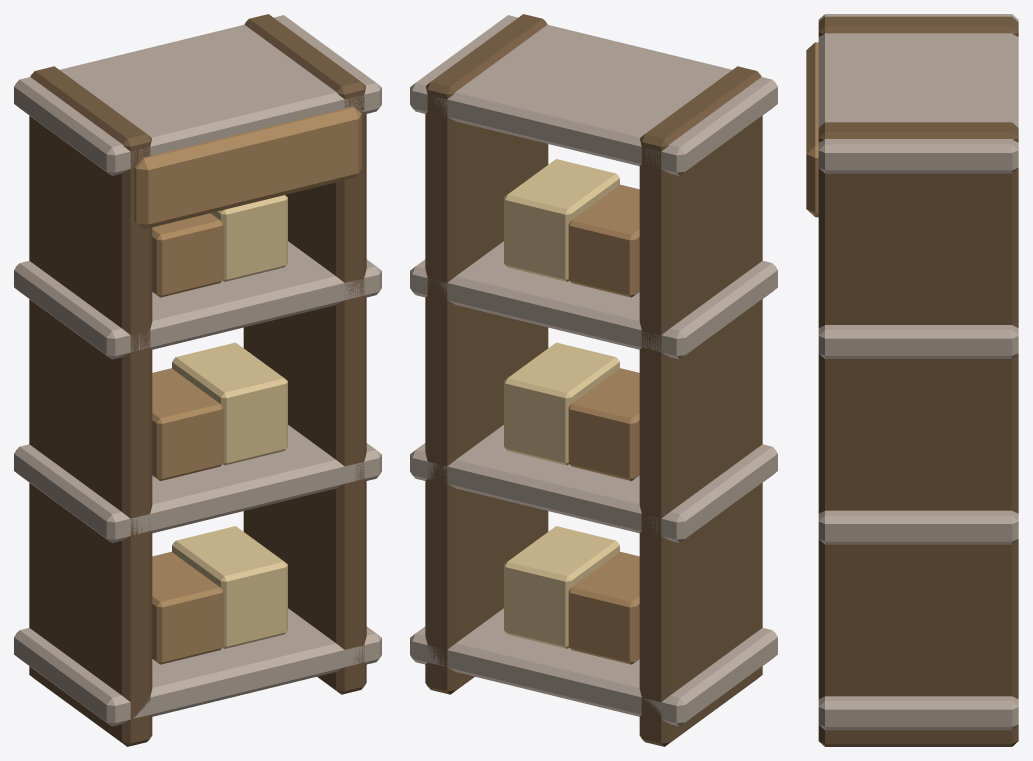
The model's file is display_shelf.glb.
The picture shows the model from 3 angles, left to right: view 1: azimuth 30°, elevation 25°; view 2: azimuth 150°, elevation 25°; view 3: azimuth 270°, elevation 25°; orthographic projection.
Size of the model in its own units: 0.9 by 1.9 by 0.5944.
